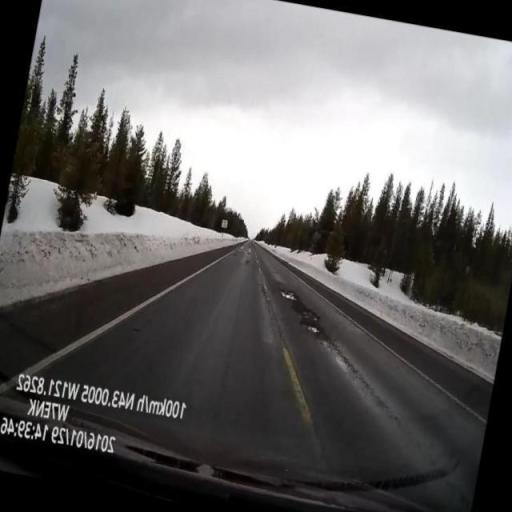pothole: (153, 162, 459, 491), (147, 148, 441, 440)
